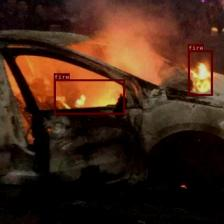fire: (54, 79, 124, 114), (188, 50, 212, 95)
